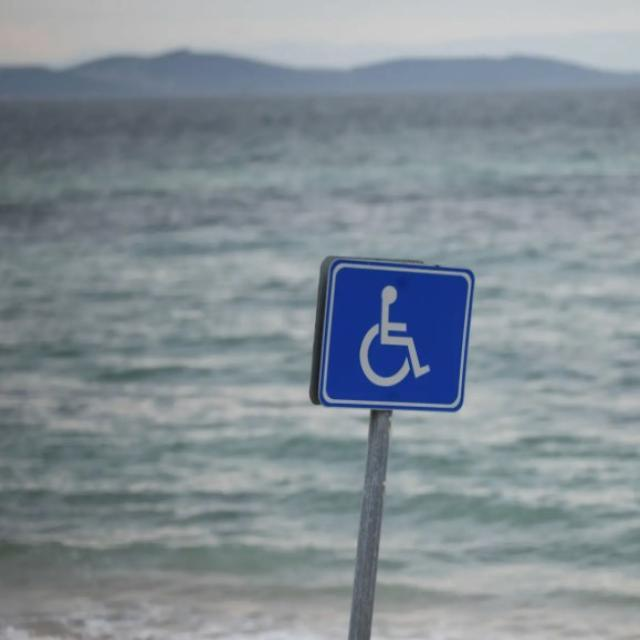symbol_of_access: (312, 256, 479, 414)
